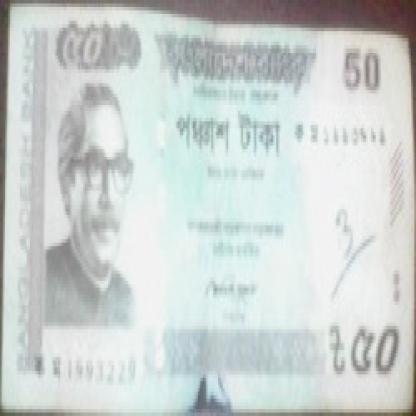Fifty taka: (52, 17, 124, 87), (344, 319, 411, 381)
